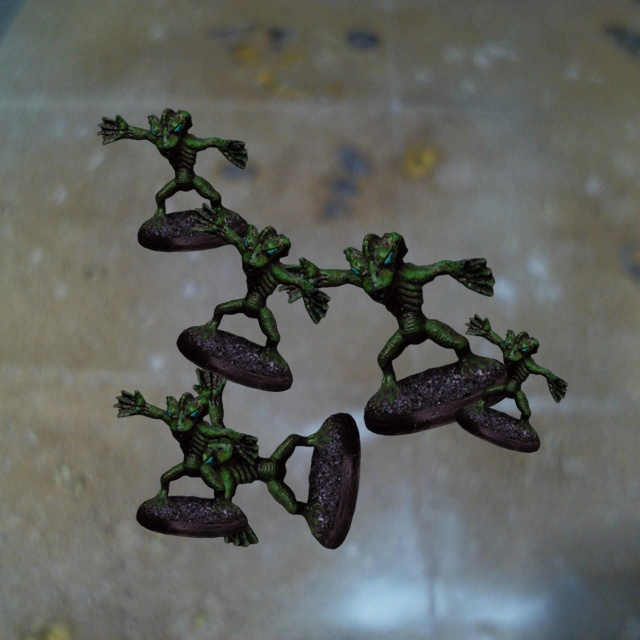pieza_juego: (277, 232, 517, 435), (184, 362, 360, 549), (176, 203, 330, 391), (97, 108, 248, 251), (113, 390, 258, 537), (455, 314, 567, 452)
